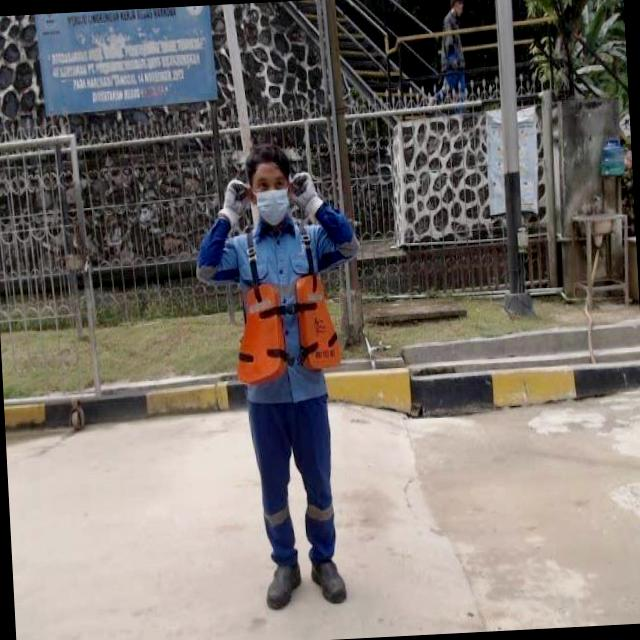vest: (231, 274, 344, 384)
